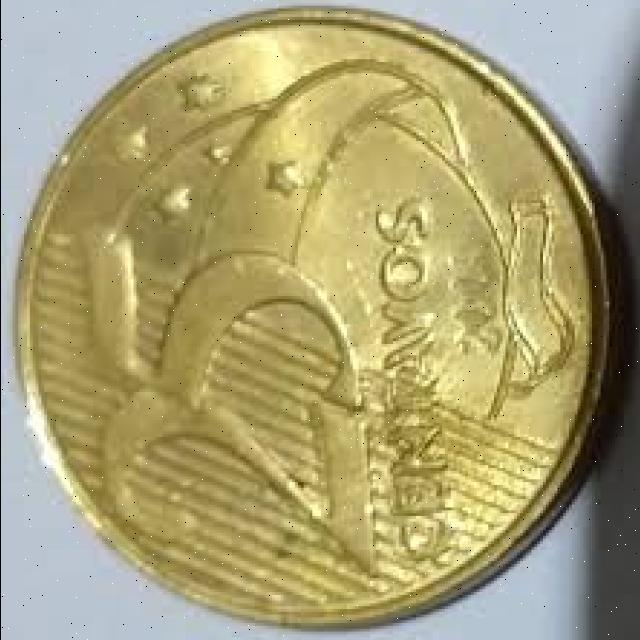25 cent: (16, 13, 608, 628)
